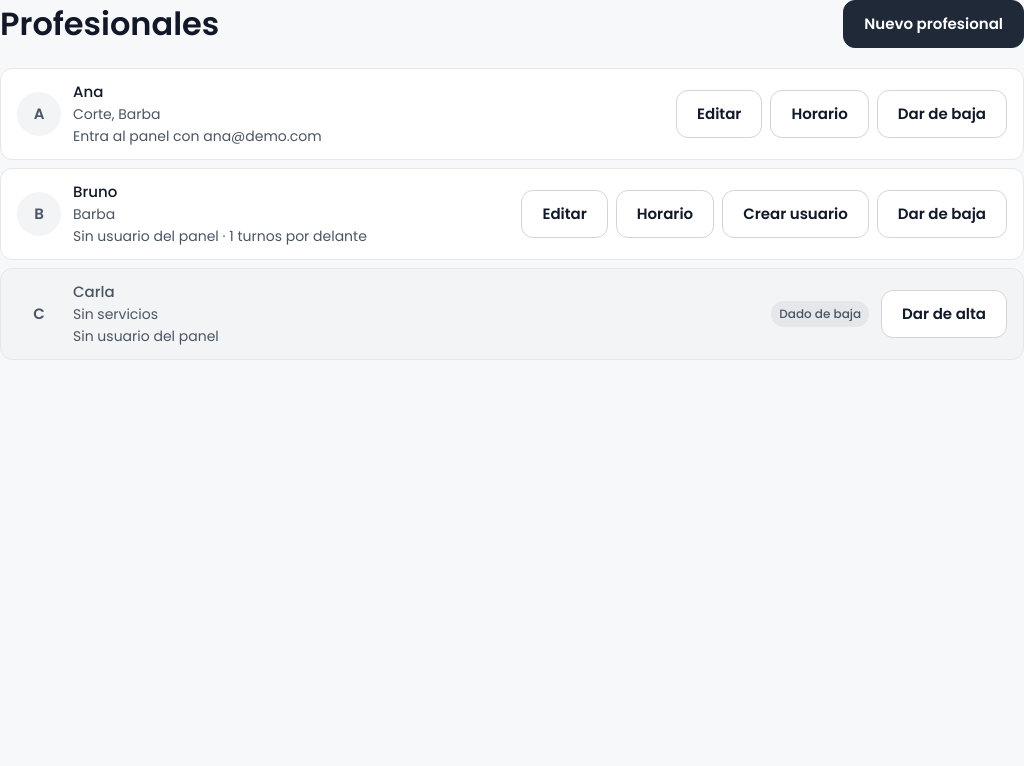
it: Profesionales del local › HU-25 CA4: un mail repetido se marca en el campo del mail
This screenshot has width=1024, height=766.
Click the button "Crear usuario" at [795, 214], box [722, 190, 869, 238]
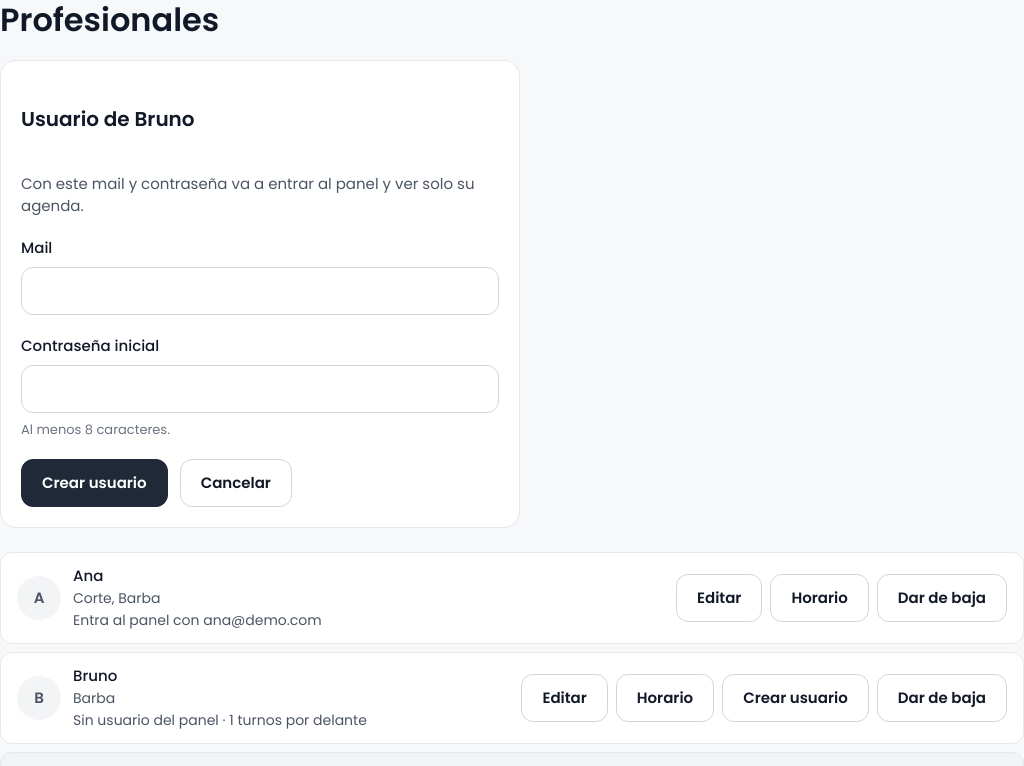
Type "ana@demo.com" into the field labelled "Mail" at [260, 291], box [21, 267, 499, 315]
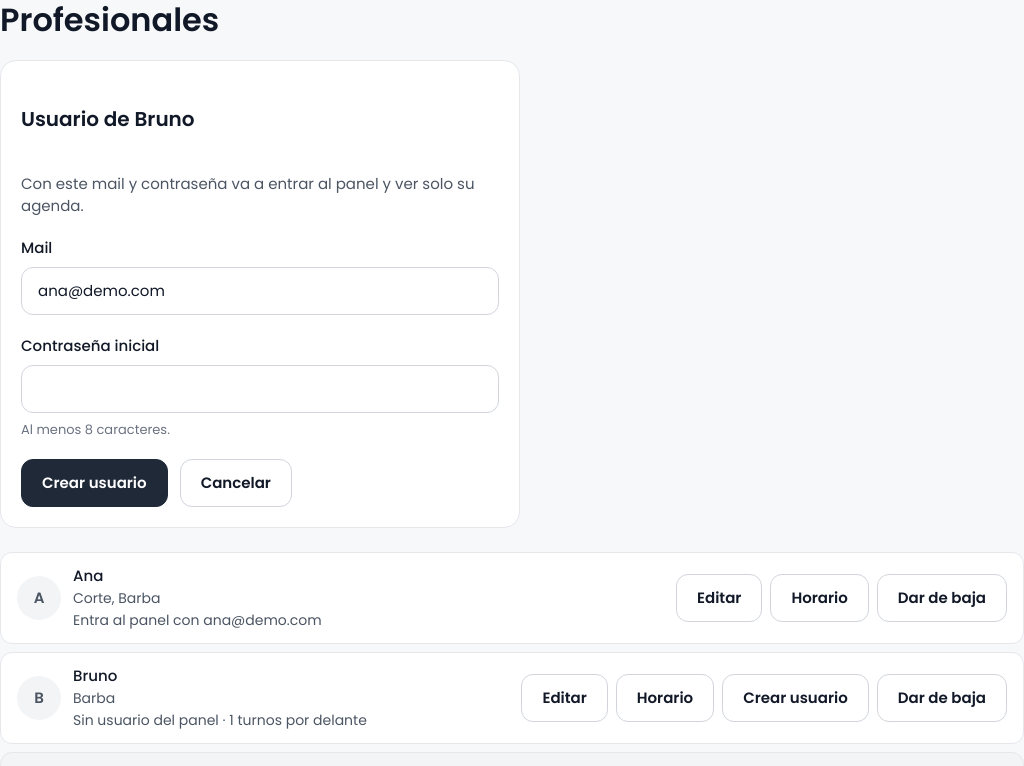
Type "clave-inicial" into the password field labelled "Contraseña inicial" at [260, 389], box [21, 365, 499, 413]
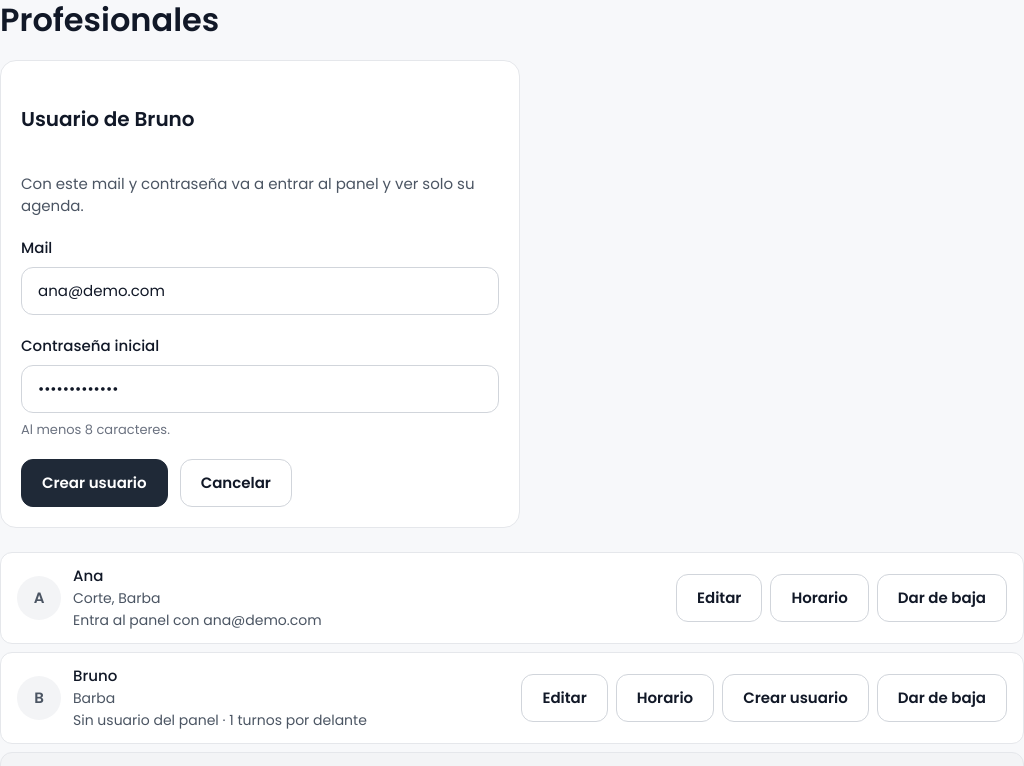
Click the button "Crear usuario" below "Al menos 8 caracteres." at [94, 483], box [21, 459, 168, 507]
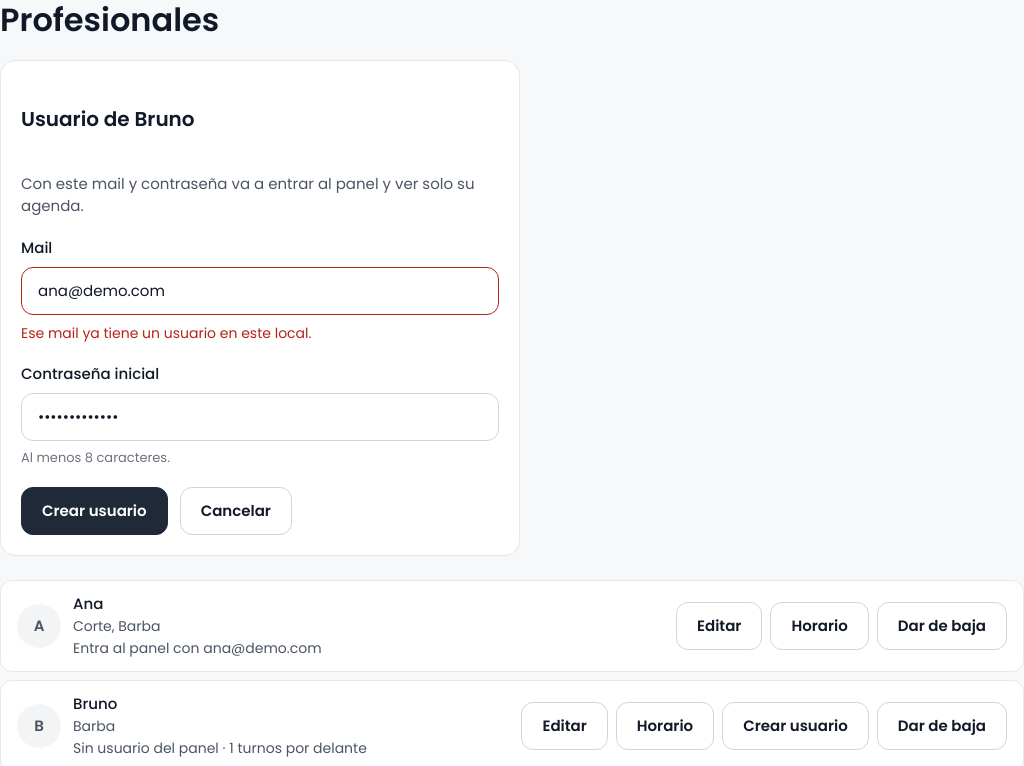
Now the text "Ese mail ya tiene un usuario en este local." is shown, box [21, 323, 312, 343]
